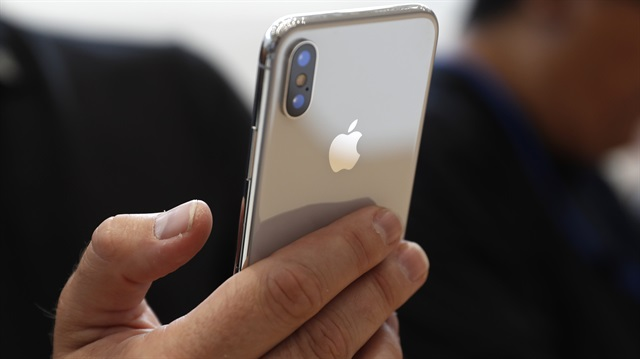apple: (319, 117, 382, 178)
